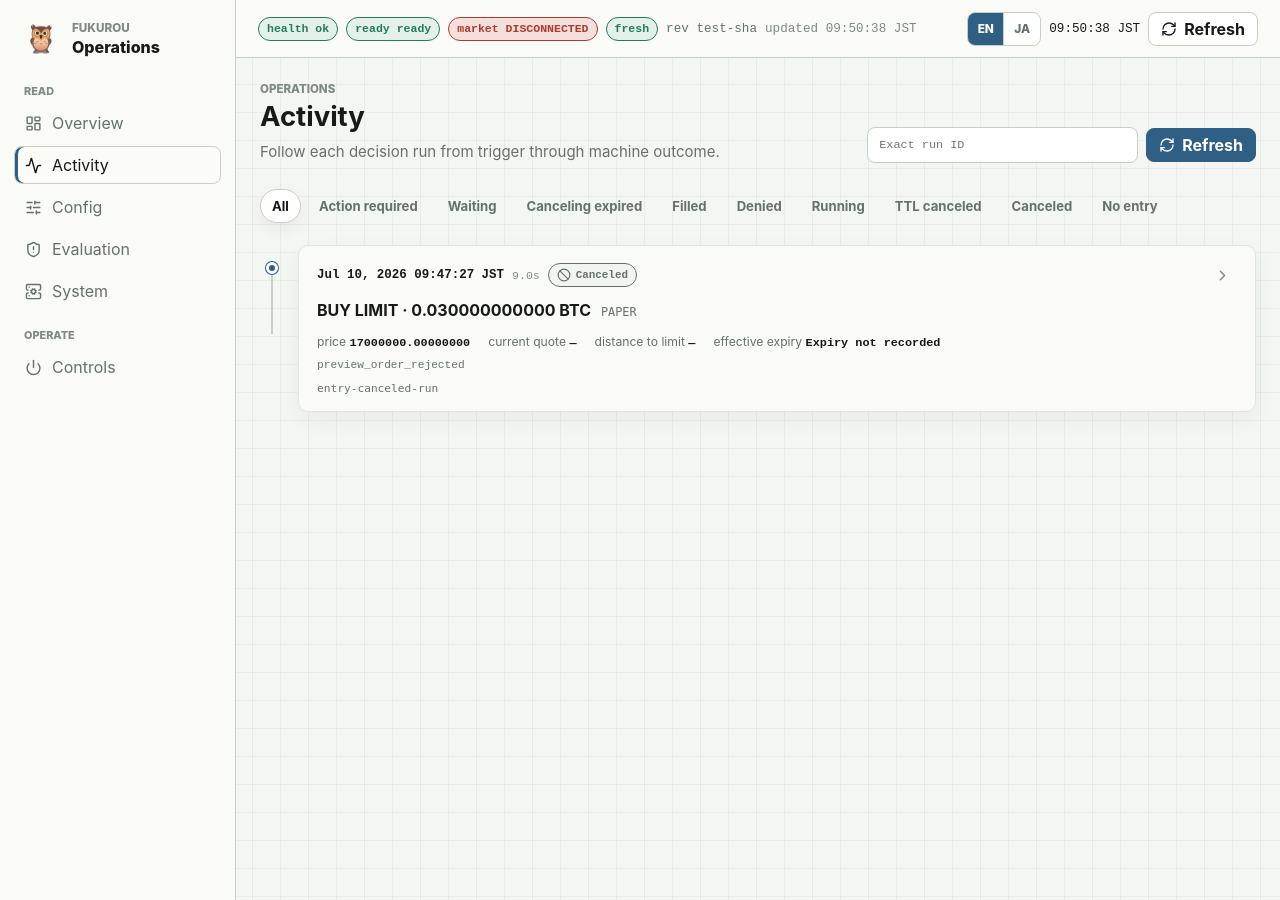
Test: App › shows normal cancellation and the actor run provenance
Check: the text "Canceled" is shown, box [548, 263, 637, 287]
Click the button named "BUY LIMIT".
click(1222, 275)  # box [1208, 266, 1237, 285]
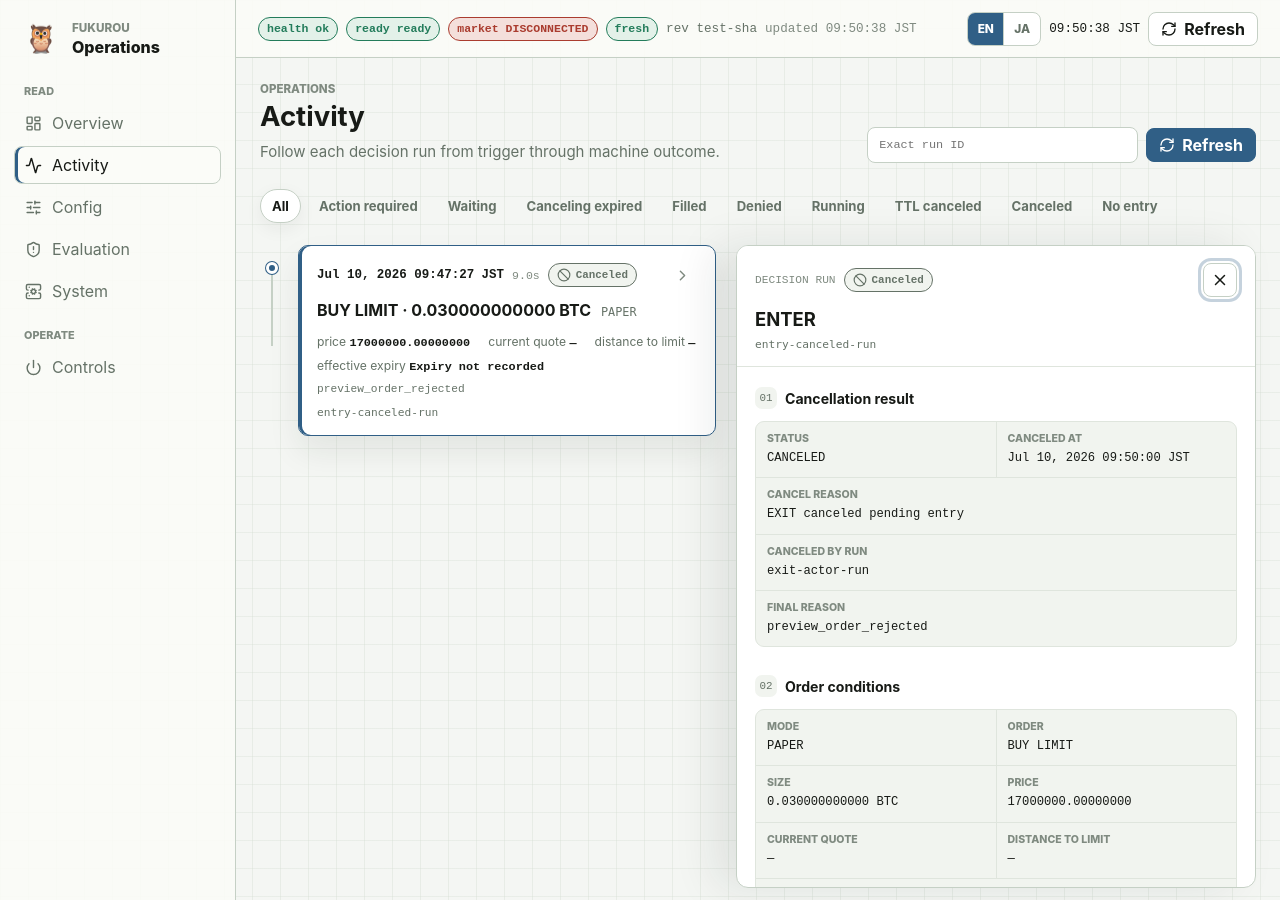
Check: the text "exit-actor-run" is shown, box [767, 564, 869, 578]
Check: the heading "Cancellation result" is shown, box [785, 390, 914, 407]
